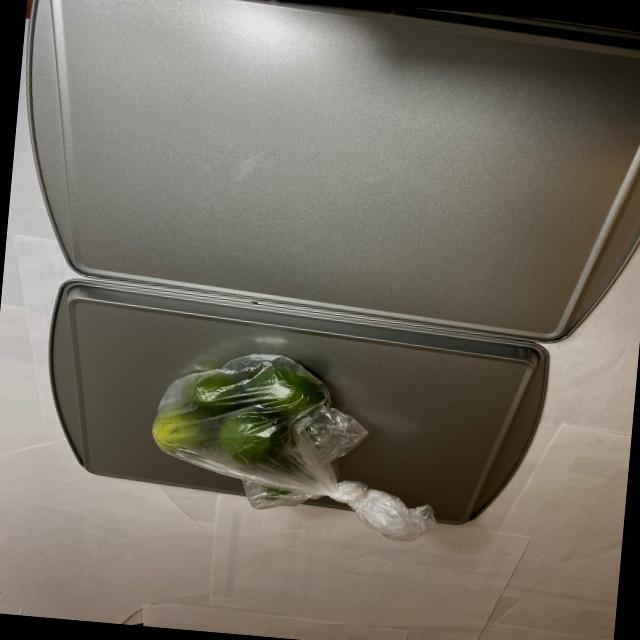lemon: (140, 339, 344, 507)
